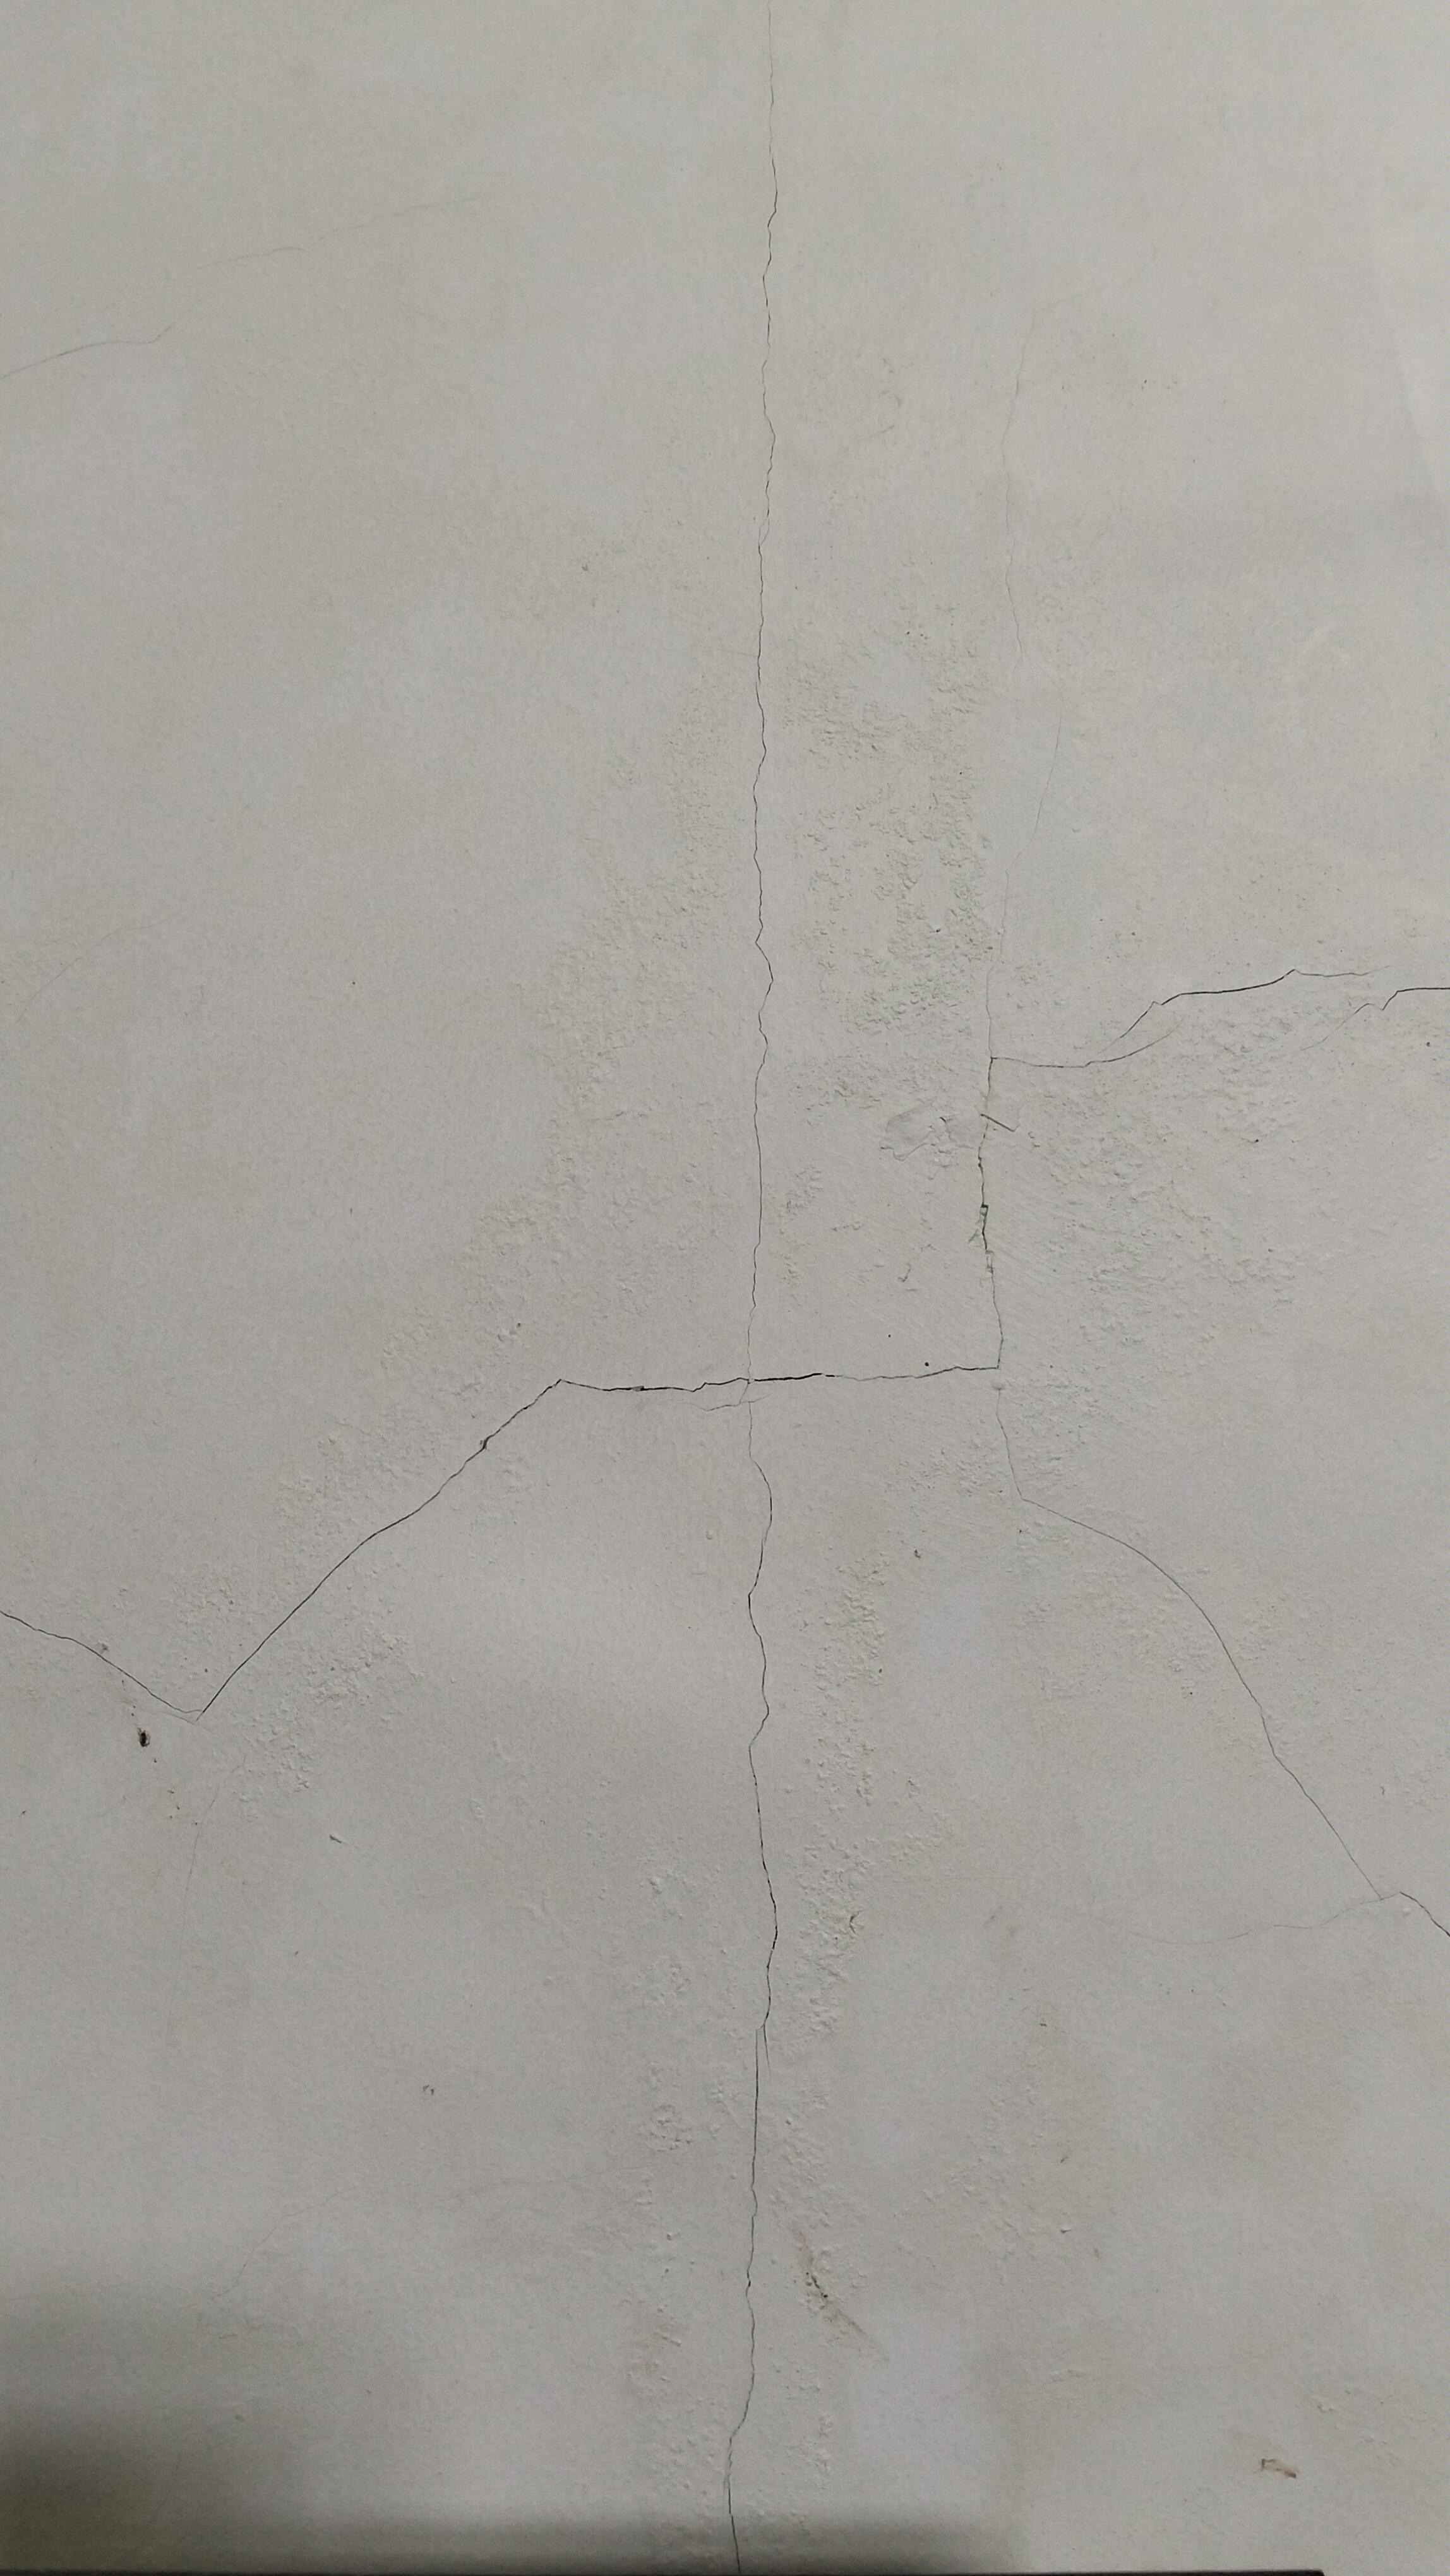Crack: (0, 1348, 958, 1819), (705, 0, 816, 2576), (1007, 1490, 1450, 1966), (961, 939, 1450, 1122), (929, 1033, 1105, 1500)
